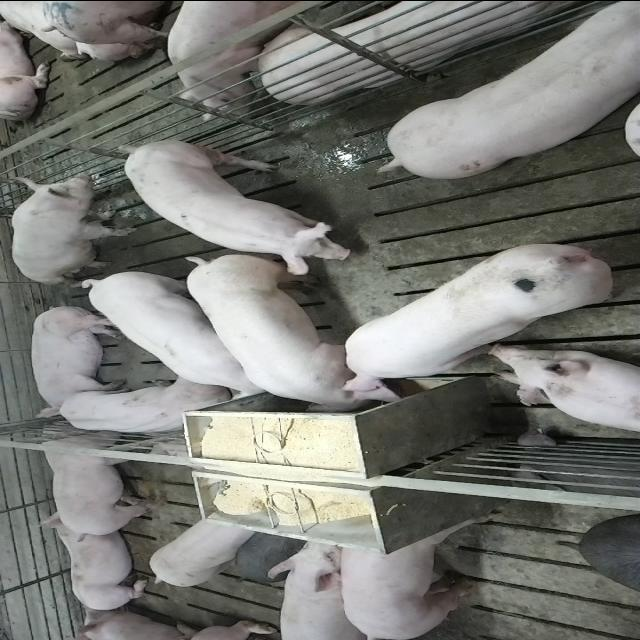Feeding: (338, 240, 618, 402), (176, 255, 382, 420)
Lateral_lying: (251, 0, 607, 101), (26, 302, 128, 418)
Sitting: (8, 172, 136, 286)
Standing: (380, 0, 639, 175), (116, 136, 354, 270), (77, 266, 285, 398), (338, 516, 492, 638), (34, 420, 173, 540), (169, 0, 305, 113), (269, 531, 381, 637), (150, 515, 258, 588)
Sternal_lying: (488, 346, 640, 434), (35, 516, 154, 613), (55, 377, 232, 437)
